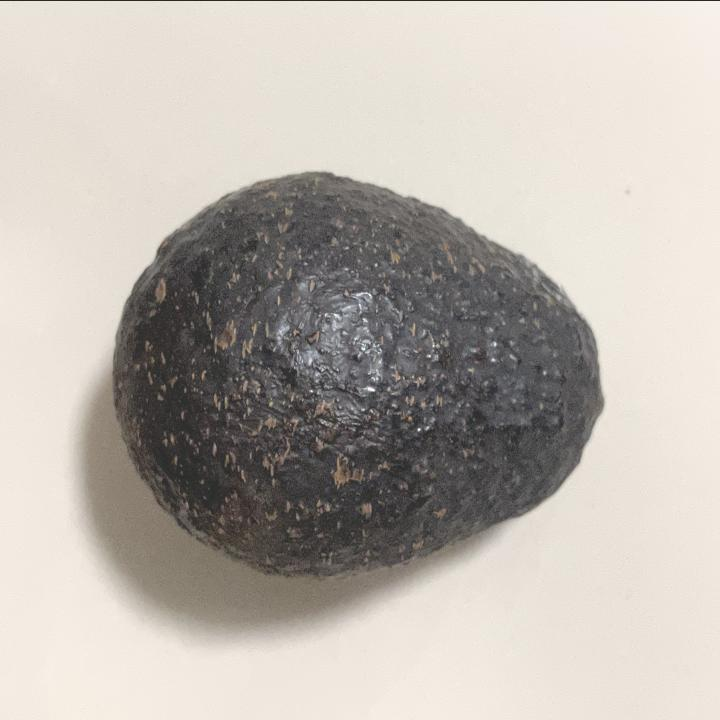Level2: (105, 161, 613, 587)
